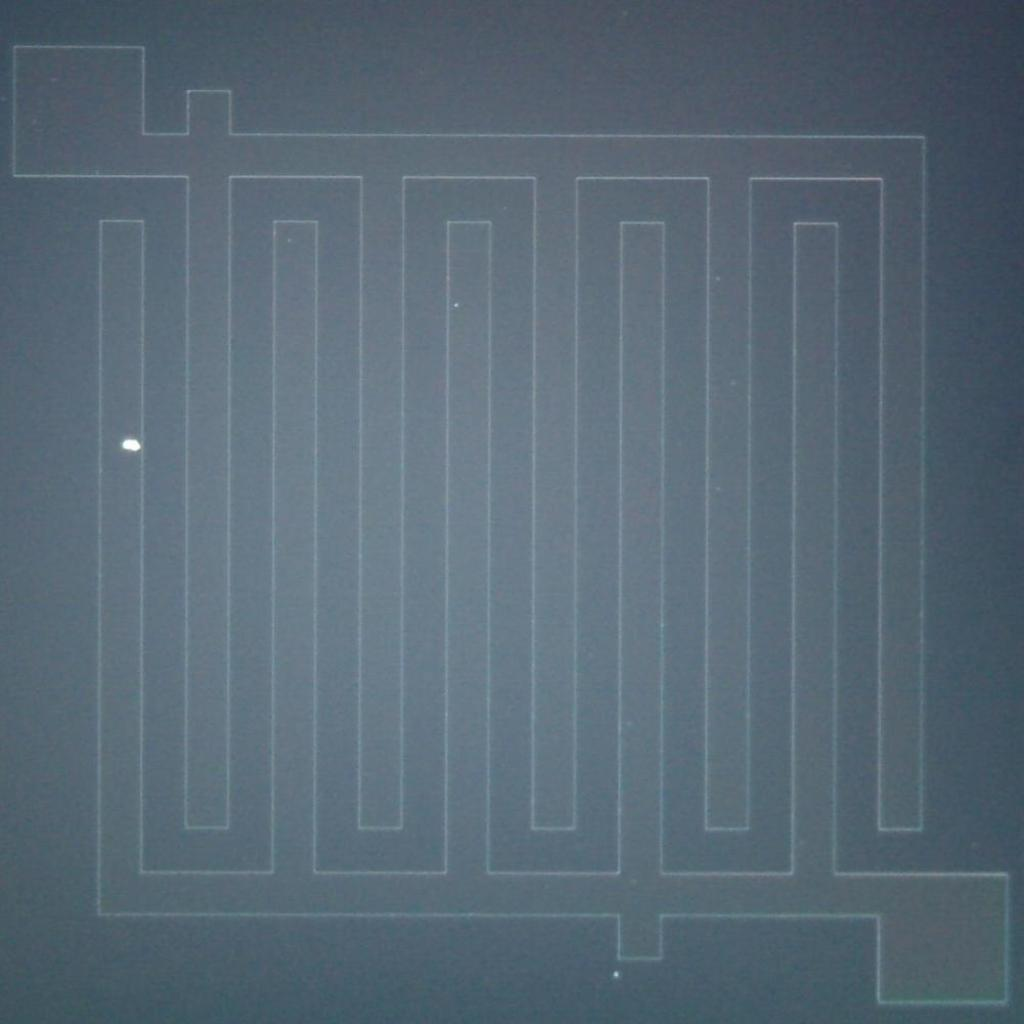dot: (123, 437, 140, 454), (614, 972, 620, 978), (1, 96, 7, 102), (51, 77, 57, 83), (454, 302, 458, 308), (503, 206, 507, 211), (288, 238, 292, 243), (716, 276, 720, 280)
